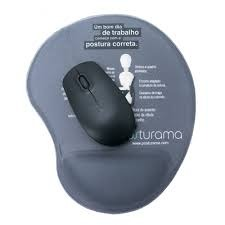mouse: (60, 63, 142, 150)
